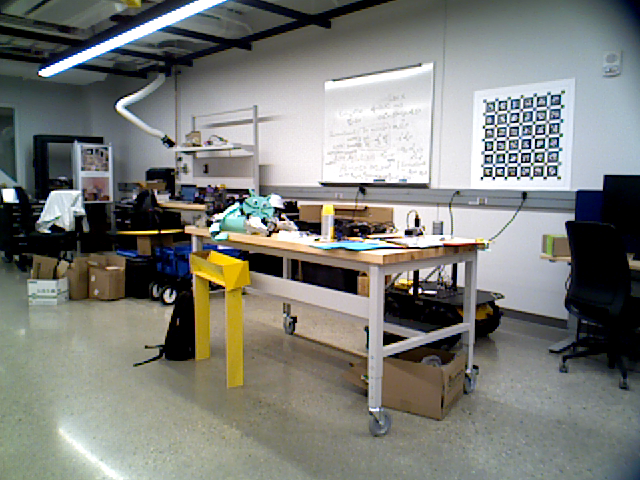painting4: (468, 77, 575, 191)
